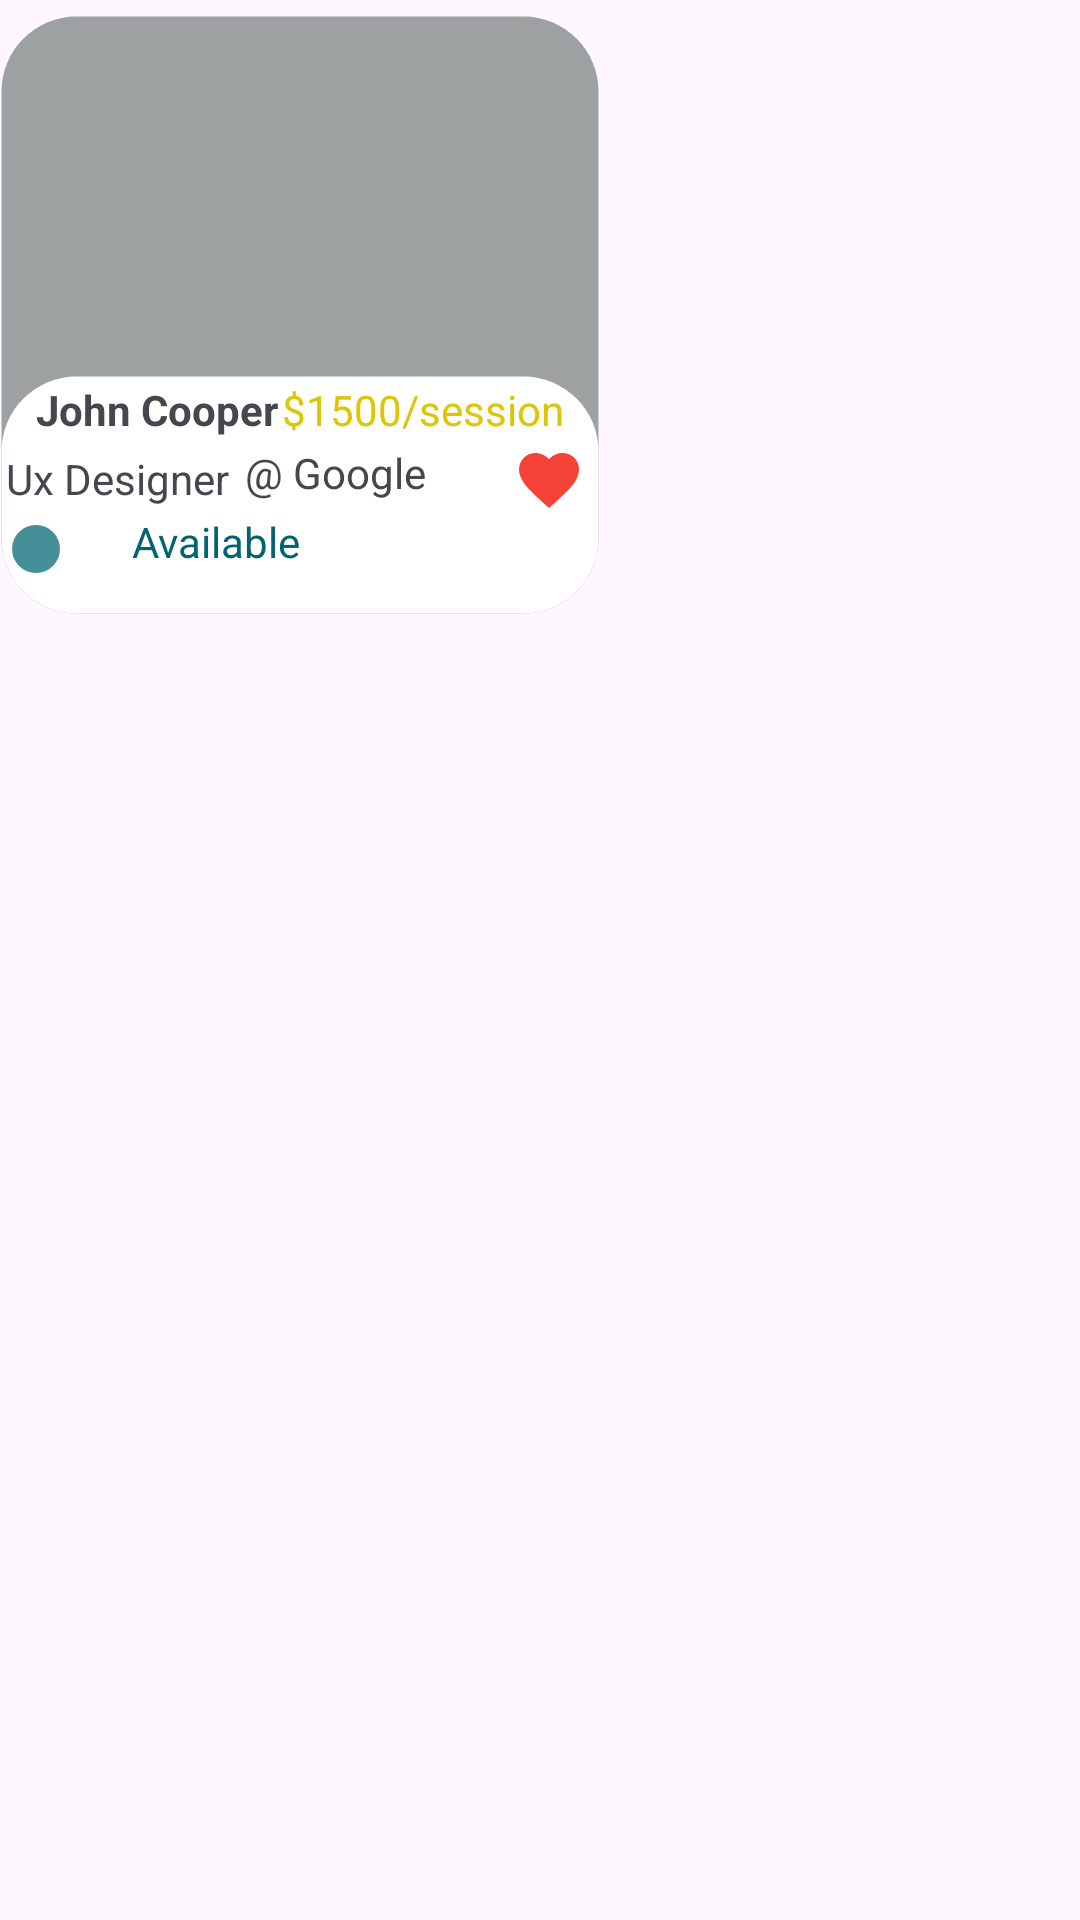

Screen size 1080×1920. Icon name, then its box in pixels as (x1, y1, x2, y2):
favorite: (519, 453, 579, 508)
